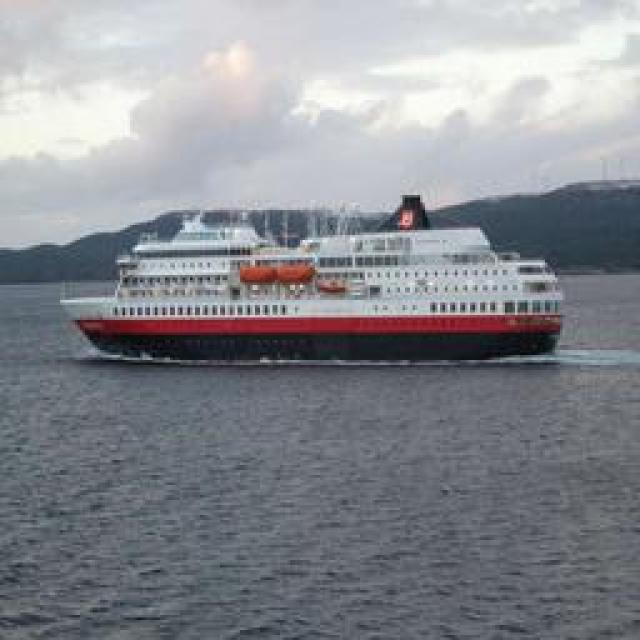CIV_Ship: (65, 197, 568, 365)
